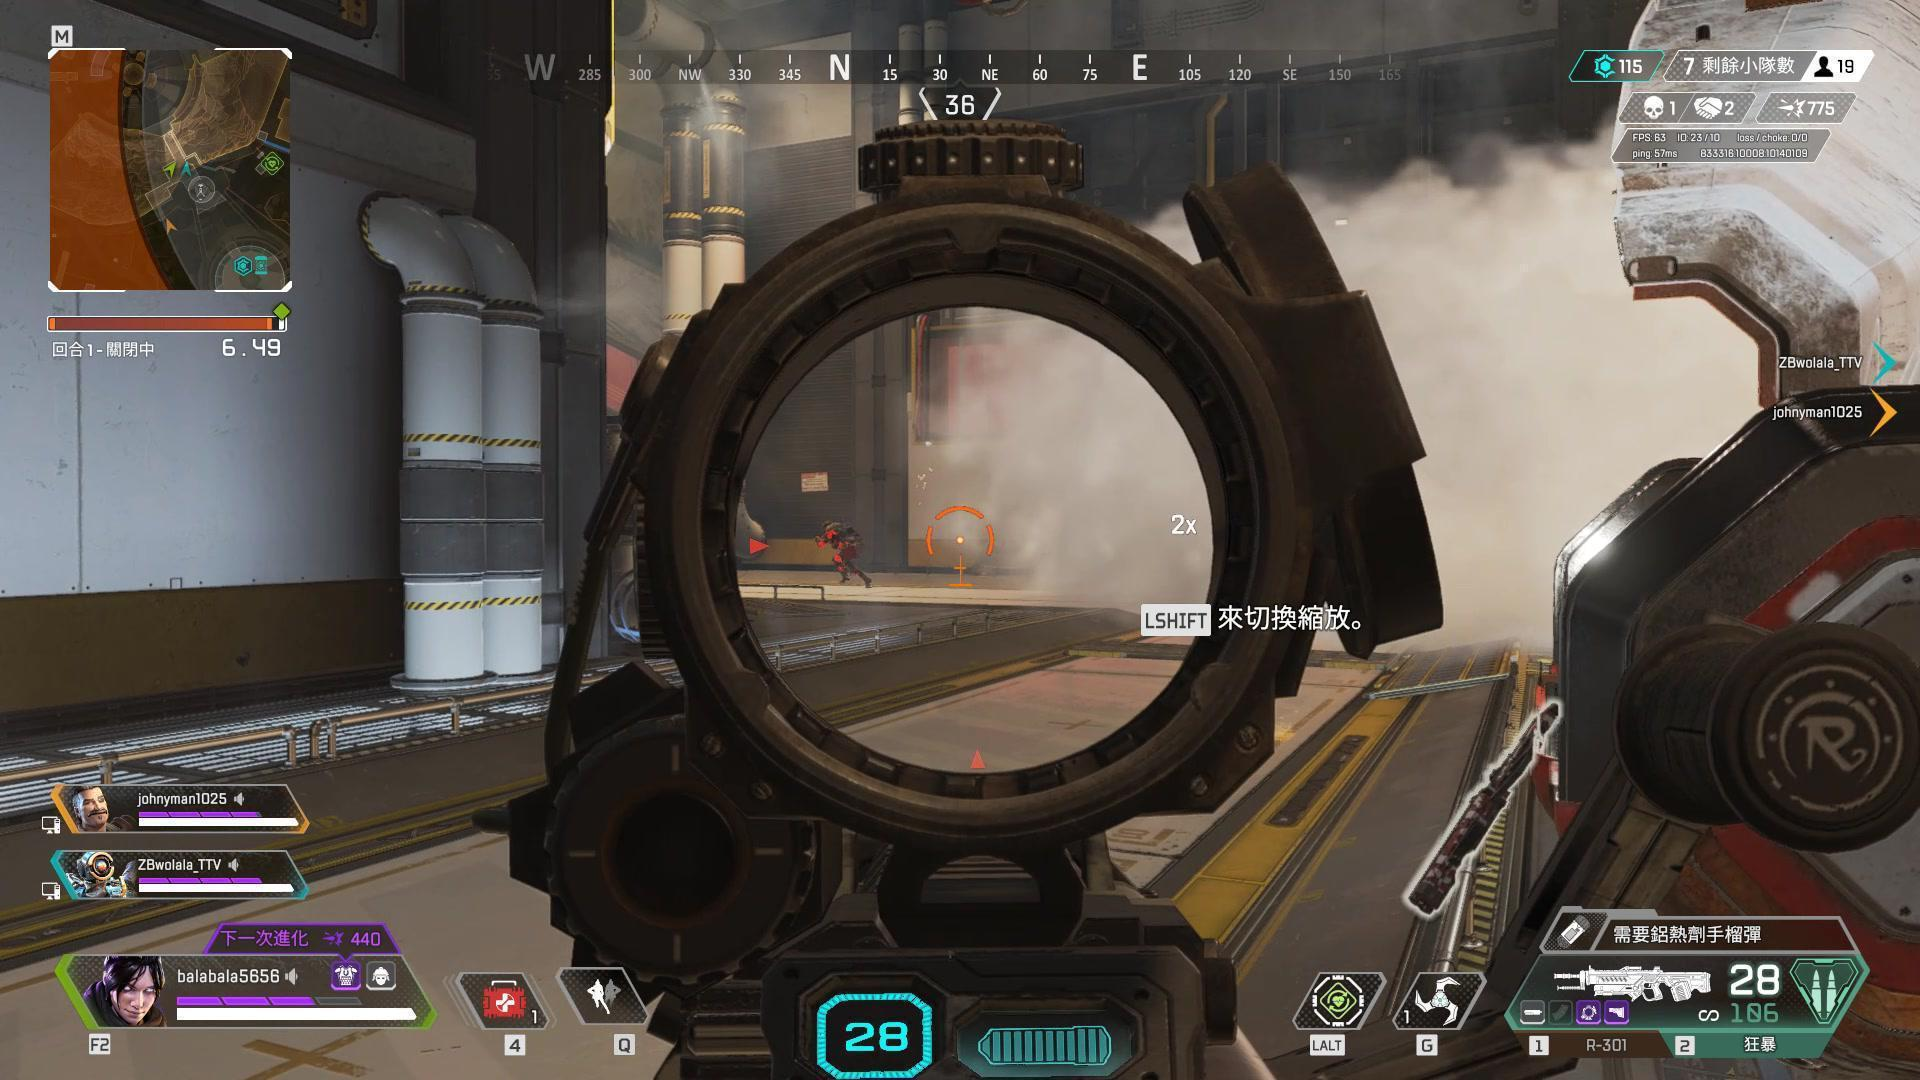avatar: (821, 521, 875, 591)
